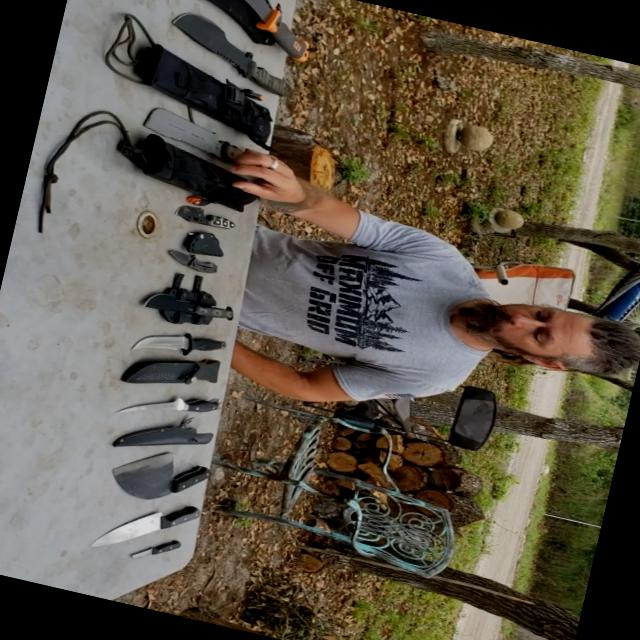knife: (150, 0, 308, 109), (118, 95, 275, 185), (78, 474, 220, 570), (144, 0, 327, 64), (94, 435, 225, 517), (108, 366, 235, 444), (120, 314, 246, 380), (124, 273, 248, 337), (117, 524, 191, 582), (166, 197, 250, 245), (145, 240, 233, 284)
